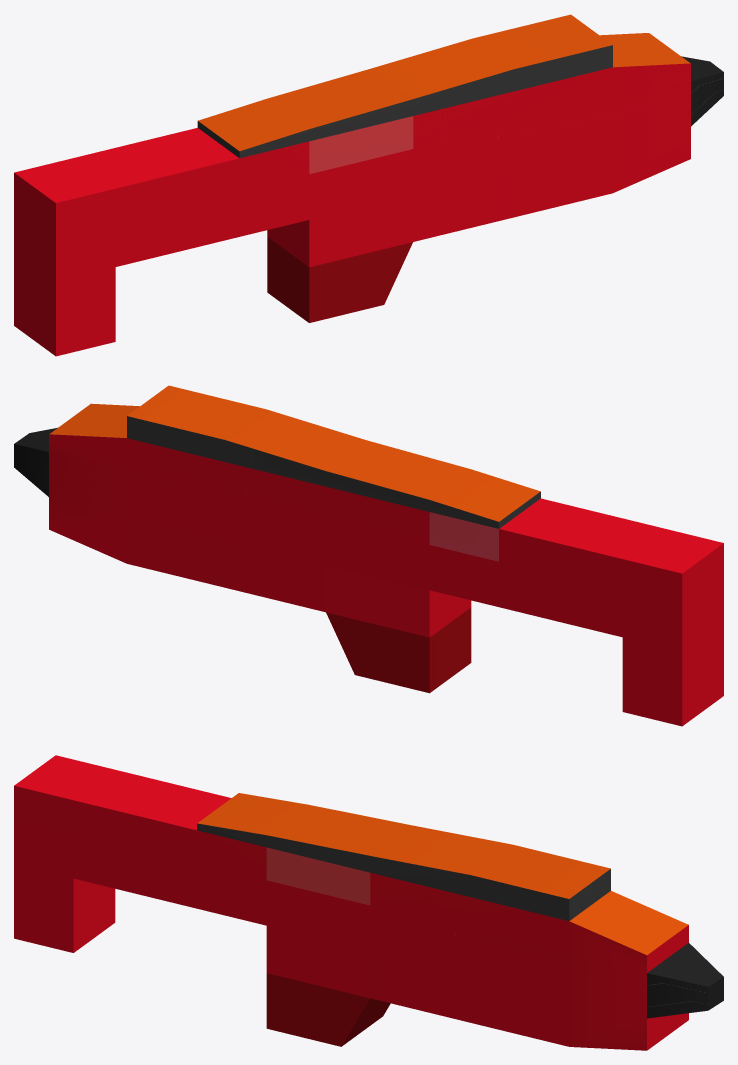
The model's file is Arma_Jugador.obj.
3 renders of one model, top to bottom at view 1: azimuth 30°, elevation 25°; view 2: azimuth 150°, elevation 25°; view 3: azimuth 330°, elevation 25°, orthographic.
Parts seen in each view (by area): view 1: Arma; view 2: Arma; view 3: Arma.
Part boxes in pixels (box(x1,y1,x2,y2)): Arma: box(14, 14, 723, 356); Arma: box(14, 385, 723, 726); Arma: box(14, 755, 723, 1050).
Size of the model in its own units: 4.71 by 1.34 by 0.5074.
